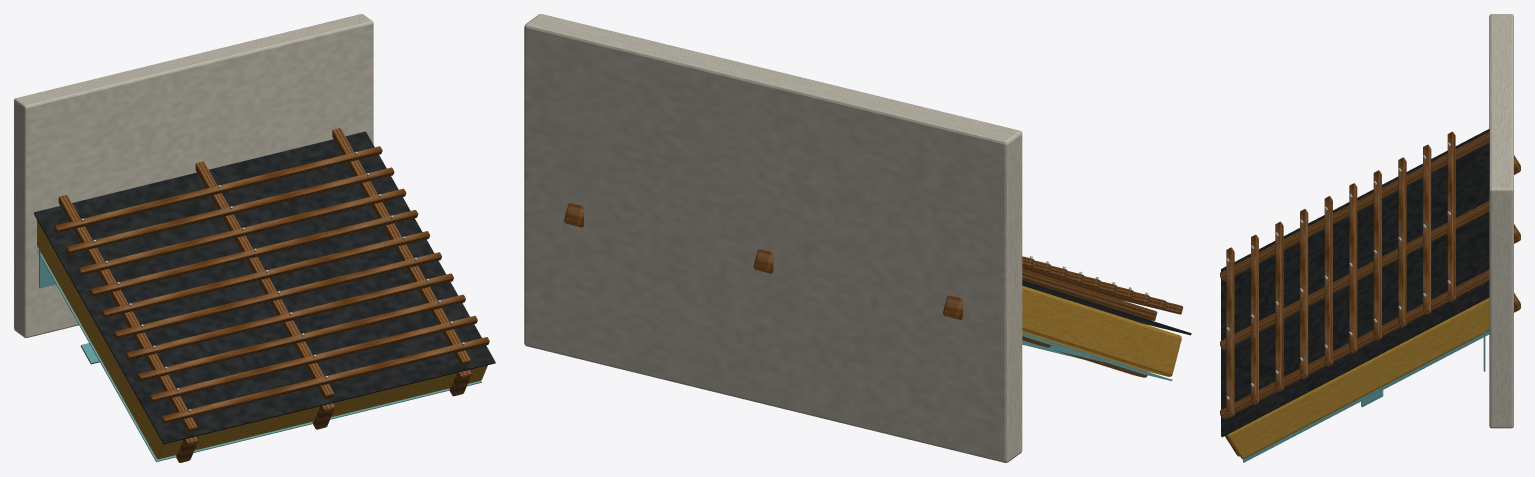
The model's file is modell.glb.
The picture shows the model from 3 angles, left to right: view 1: azimuth 30°, elevation 25°; view 2: azimuth 150°, elevation 25°; view 3: azimuth 270°, elevation 25°; orthographic projection. The views are drawn at different scales.
Parts seen in each view (by area): view 1: g04-zusatzebene_zusatzebene, g04-wand_, g04-lattung_lattung, g04-daemmung_daemmung, g04-luftdichtheit_luftdichtheit, g04-sparren_tragwerk; view 2: g04-wand_, g04-daemmung_daemmung, g04-lattung_lattung, g04-sparren_tragwerk, g04-luftdichtheit_luftdichtheit, g04-zusatzebene_zusatzebene; view 3: g04-zusatzebene_zusatzebene, g04-lattung_lattung, g04-wand_, g04-daemmung_daemmung, g04-luftdichtheit_luftdichtheit, g04-sparren_tragwerk, g04-befestigung_lattung.
Part boxes in pixels (x1,y1,x2,y2): g04-zusatzebene_zusatzebene: (34, 131, 495, 444); g04-wand_: (14, 14, 373, 337); g04-lattung_lattung: (53, 128, 489, 432); g04-daemmung_daemmung: (37, 220, 487, 459); g04-luftdichtheit_luftdichtheit: (37, 249, 481, 461); g04-sparren_tragwerk: (176, 369, 471, 462); g04-wand_: (524, 14, 1022, 462); g04-daemmung_daemmung: (1022, 286, 1181, 376); g04-lattung_lattung: (1022, 256, 1183, 320); g04-sparren_tragwerk: (564, 203, 1147, 377); g04-luftdichtheit_luftdichtheit: (540, 214, 1172, 380); g04-zusatzebene_zusatzebene: (1022, 280, 1191, 335); g04-zusatzebene_zusatzebene: (1221, 129, 1489, 437); g04-lattung_lattung: (1220, 131, 1489, 419); g04-wand_: (1489, 14, 1513, 428); g04-daemmung_daemmung: (1227, 298, 1489, 459); g04-luftdichtheit_luftdichtheit: (1243, 331, 1489, 462); g04-sparren_tragwerk: (1225, 155, 1520, 456); g04-befestigung_lattung: (1226, 142, 1450, 399).
Size of the model in its own units: 2.2 by 1.66 by 1.59.
Materials: 6 (4 with a texture image).
